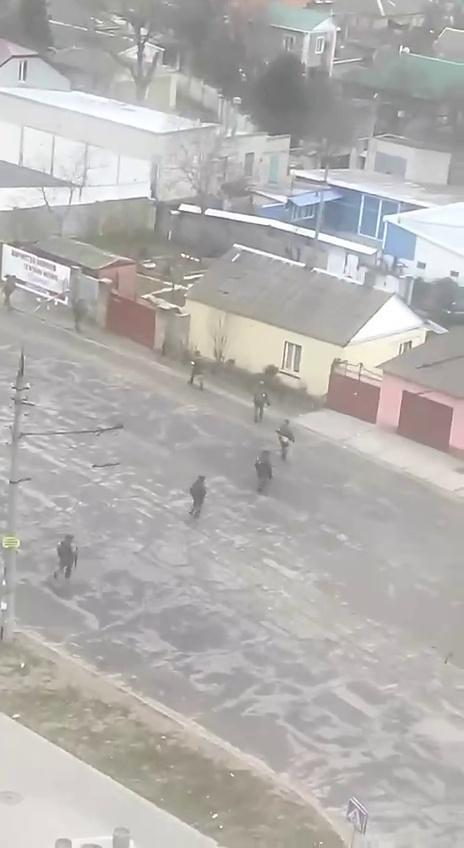person: (50, 533, 80, 583), (64, 290, 92, 336), (250, 382, 272, 424), (254, 450, 273, 494), (275, 419, 294, 462), (189, 476, 207, 520), (188, 351, 205, 390), (0, 274, 17, 310)
